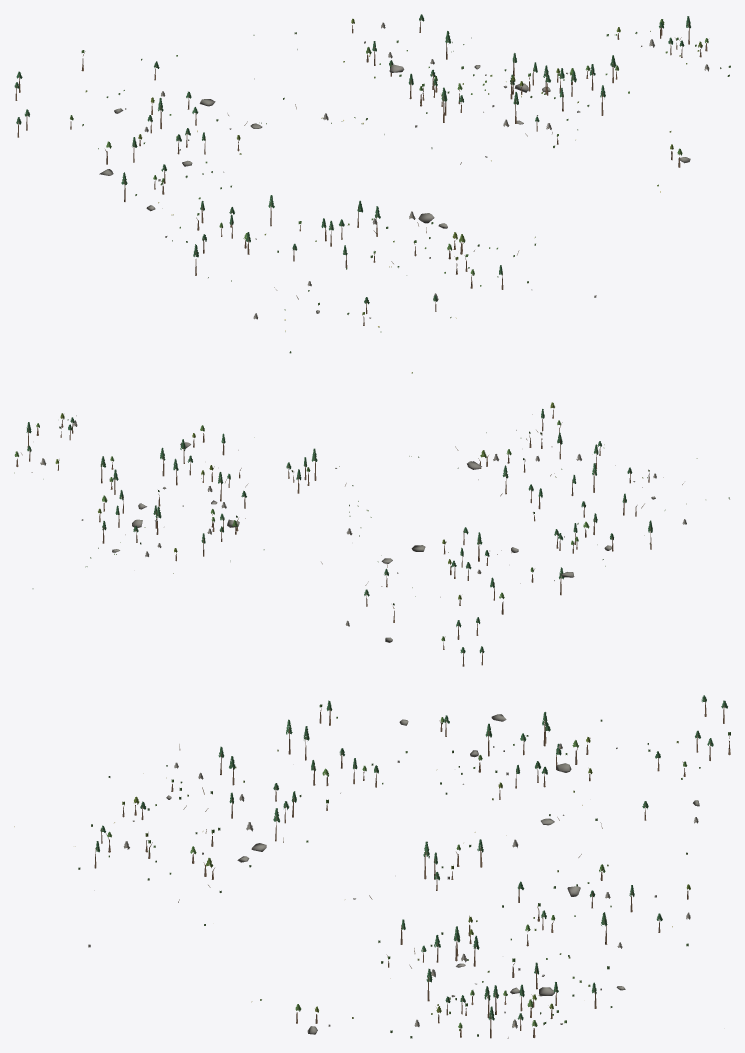
File: arch_land_scatter_c18_18_lod1.glb
3 views of the same model, one above another, from view 1: azimuth 30°, elevation 25°; view 2: azimuth 150°, elevation 25°; view 3: azimuth 270°, elevation 25° (orthographic). The views are drawn at different scales.
Visible parts, largest first — view 1: arch_land_scatter_c18_18_lod1; view 2: arch_land_scatter_c18_18_lod1; view 3: arch_land_scatter_c18_18_lod1.
Part boxes in pixels (x1,y1,x2,y2): arch_land_scatter_c18_18_lod1: (14,14,730,373); arch_land_scatter_c18_18_lod1: (14,402,729,666); arch_land_scatter_c18_18_lod1: (14,695,730,1038).
Bounding box in the file's own units: 258 × 43.25 × 247.
